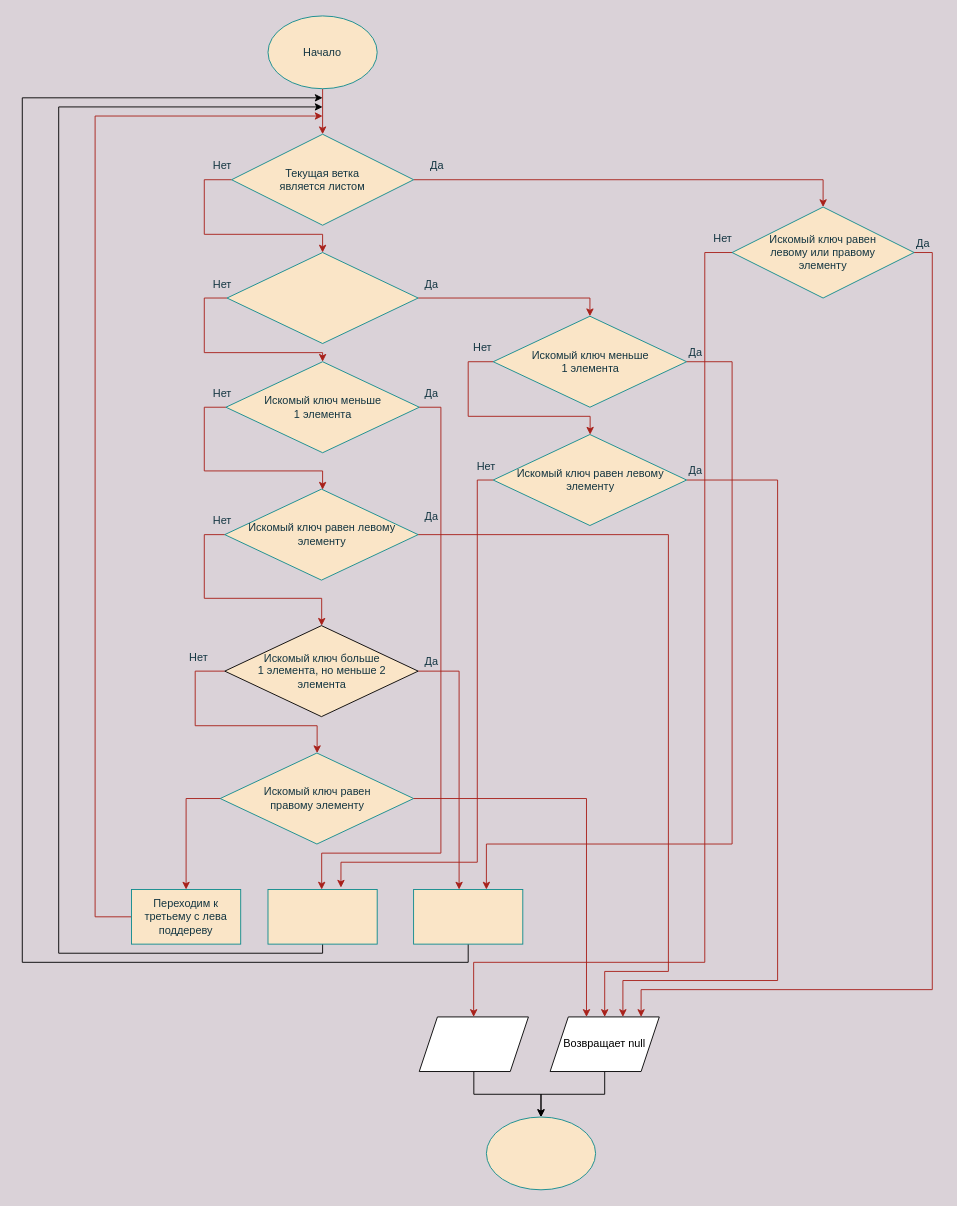
This 957x1206 diagram has some shape labels left out. The shapes that lost their labels are listed below. From the top down, each one's centre as x and y in pixels, then its label:
the point at 322,298: У текущей ветки 1 элемент
the point at 322,916: Переходим ко второму слева поддереву
the point at 468,916: Переходим к первому с лева поддереву
the point at 473,1044: Возвращает текущую ветвь
the point at 540,1153: Конец
